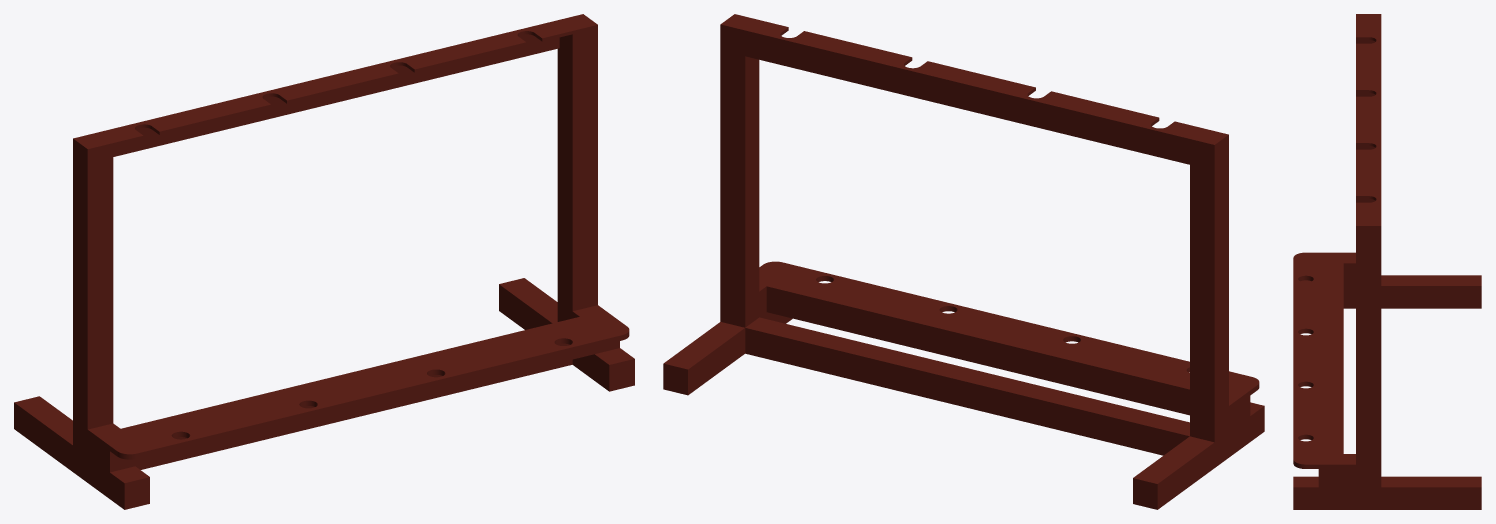
Rendered from robocon_staffrack.fbx.
3 views of the same model, side by side, from view 1: azimuth 30°, elevation 25°; view 2: azimuth 150°, elevation 25°; view 3: azimuth 270°, elevation 25° (orthographic). The views are drawn at different scales.
Parts seen in each view (by area): view 1: staffrack-Body; view 2: staffrack-Body; view 3: staffrack-Body.
Boxes of the visible parts, x1=… form: staffrack-Body: x1=14, y1=14, x2=634, y2=509; staffrack-Body: x1=663, y1=14, x2=1264, y2=509; staffrack-Body: x1=1293, y1=14, x2=1481, y2=509.
Size of the model in its own units: 80 by 50 by 30.
